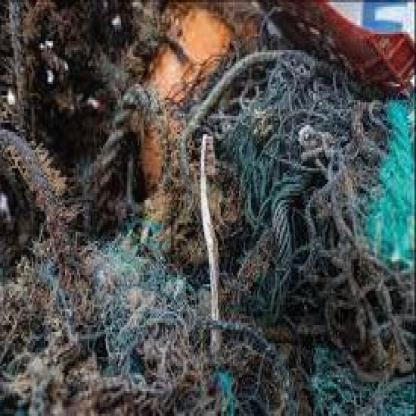net: (3, 52, 386, 412)
